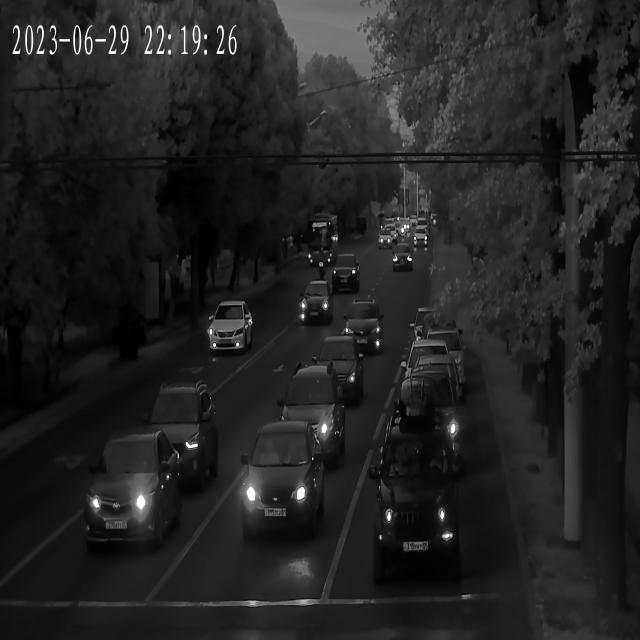Bus: (308, 218, 340, 268)
Car: (375, 410, 465, 596), (74, 432, 181, 555), (238, 426, 323, 539), (131, 383, 221, 488), (387, 374, 465, 478), (272, 369, 345, 470), (308, 338, 365, 402), (402, 362, 464, 418), (204, 298, 256, 358), (400, 339, 458, 388), (341, 298, 385, 350), (420, 331, 468, 374), (294, 281, 332, 326), (414, 311, 448, 346), (331, 256, 361, 294), (392, 250, 416, 275), (412, 233, 428, 249), (378, 233, 393, 250)
